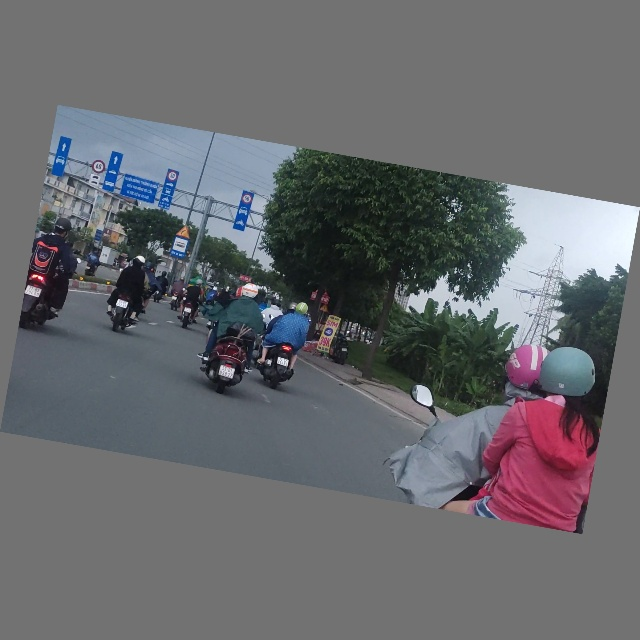I.434a: (170, 236, 189, 260)
P.127*50: (241, 193, 253, 205), (167, 171, 178, 183)
P.127*60: (91, 159, 107, 175)
S.505a*Xe tai va cong: (88, 174, 102, 188)
W.201b: (175, 224, 192, 240)
